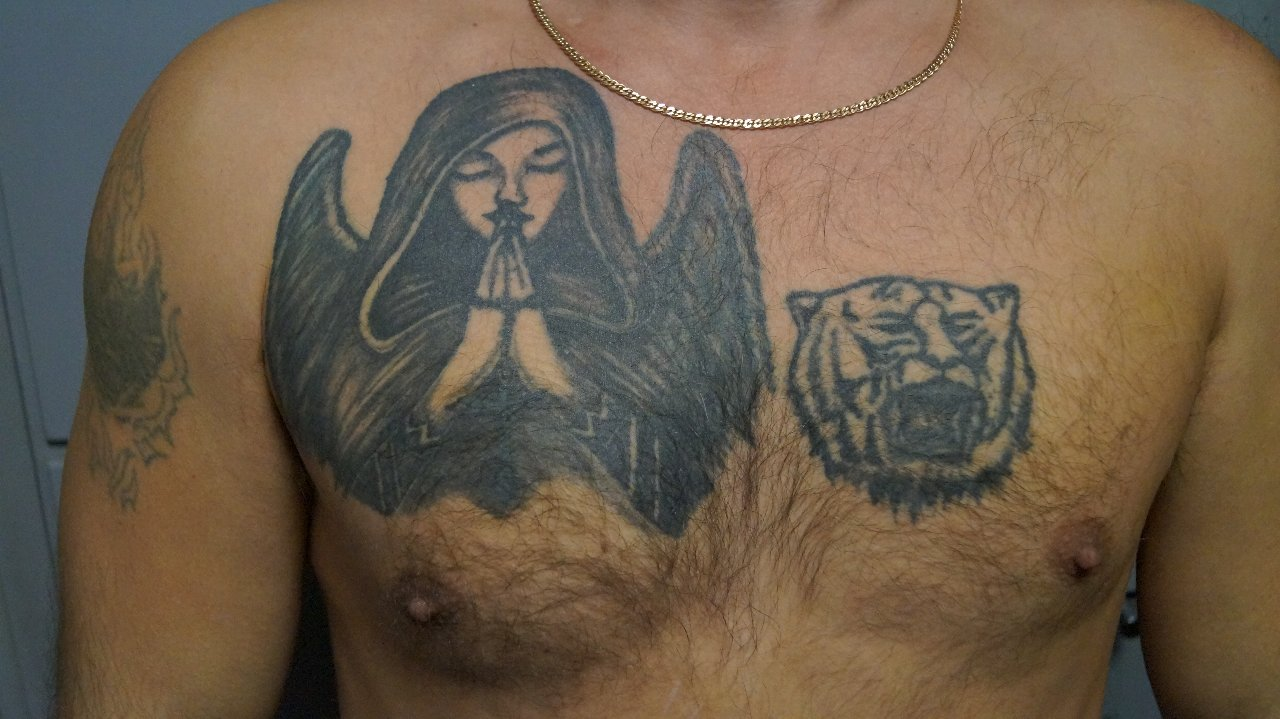tatu1_angel: (287, 63, 760, 468)
